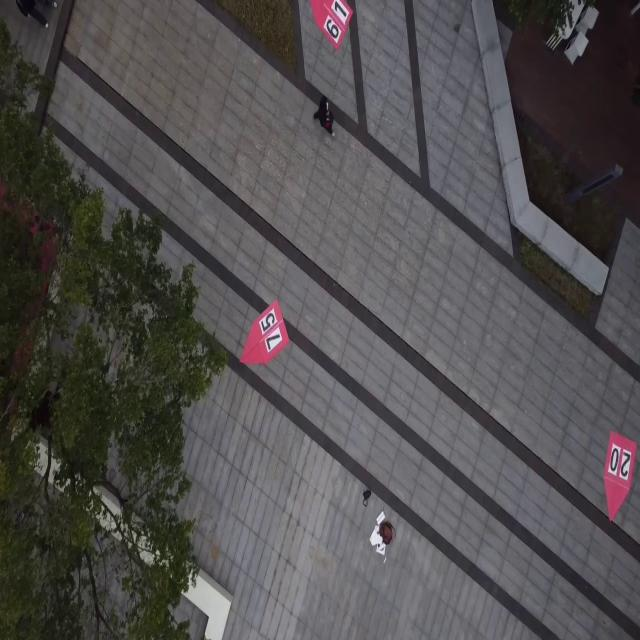-sign-: (239, 298, 290, 367), (602, 429, 636, 520), (310, 0, 354, 51)
